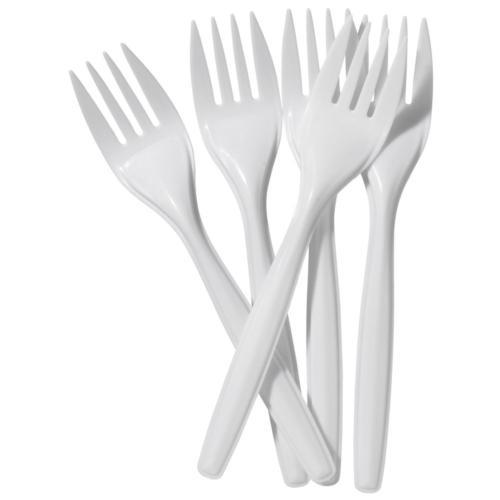Fork: (69, 43, 336, 484), (198, 16, 409, 479), (189, 10, 308, 488), (280, 8, 371, 486), (354, 15, 434, 494)
